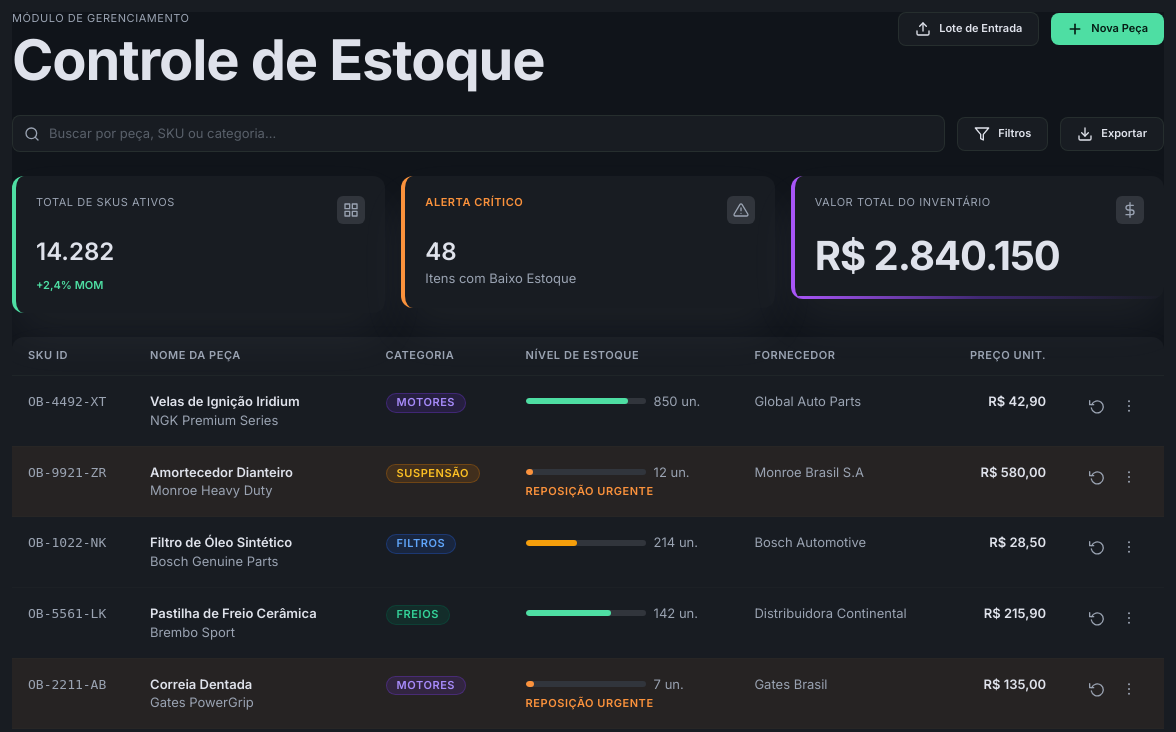
Scenario: InventoryPage — 3.3 Exportar CSV › clicar em "Exportar" exibe toast de confirmação
Click the button with aria-label "exportar dados".
click(1112, 134)  # box top-left (1060, 117), bottom-right (1164, 151)
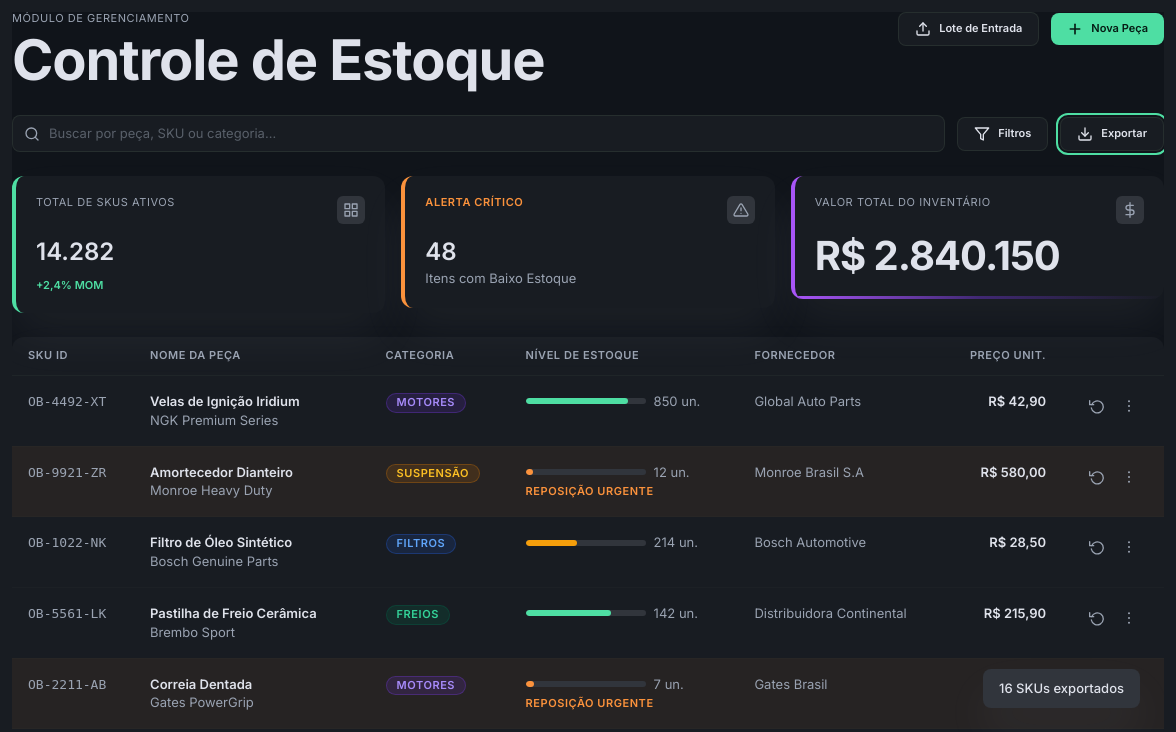
Now the message shows "SKU", box top-left (983, 669), bottom-right (1140, 708)
